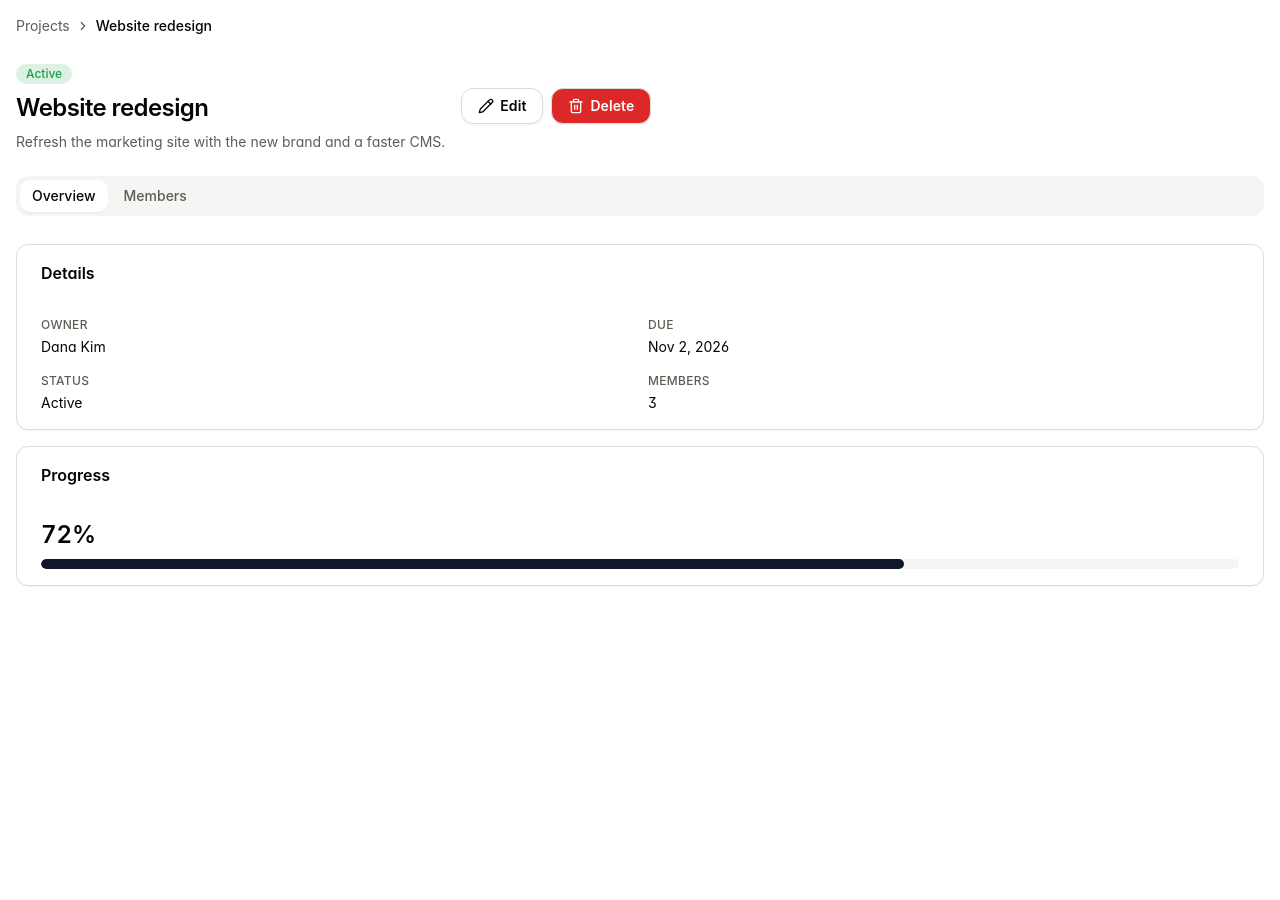
Test case: detail-page › asks before deleting; cancel keeps, confirm deletes
What coordinates should you click on to do the following:
click the button "Delete"
I would click on:
 (601, 106)
Its box is [551, 88, 651, 124].
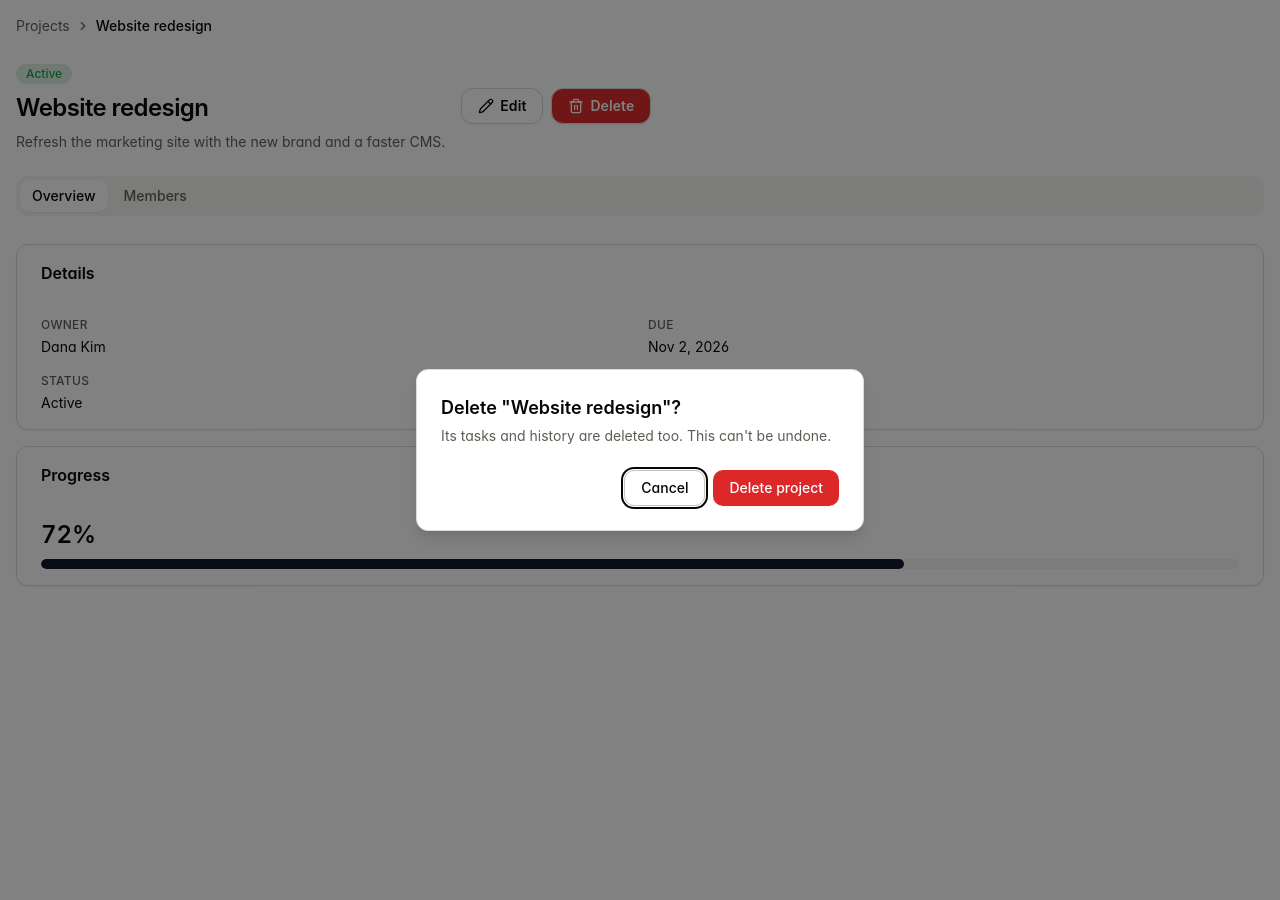
Check: the dialog shows "Delete \"Website redesign\"?", box [441, 397, 681, 418]
What coordinates should you click on to do the following:
click the button "Cancel"
I would click on:
 (665, 488)
Its box is [624, 470, 706, 506].
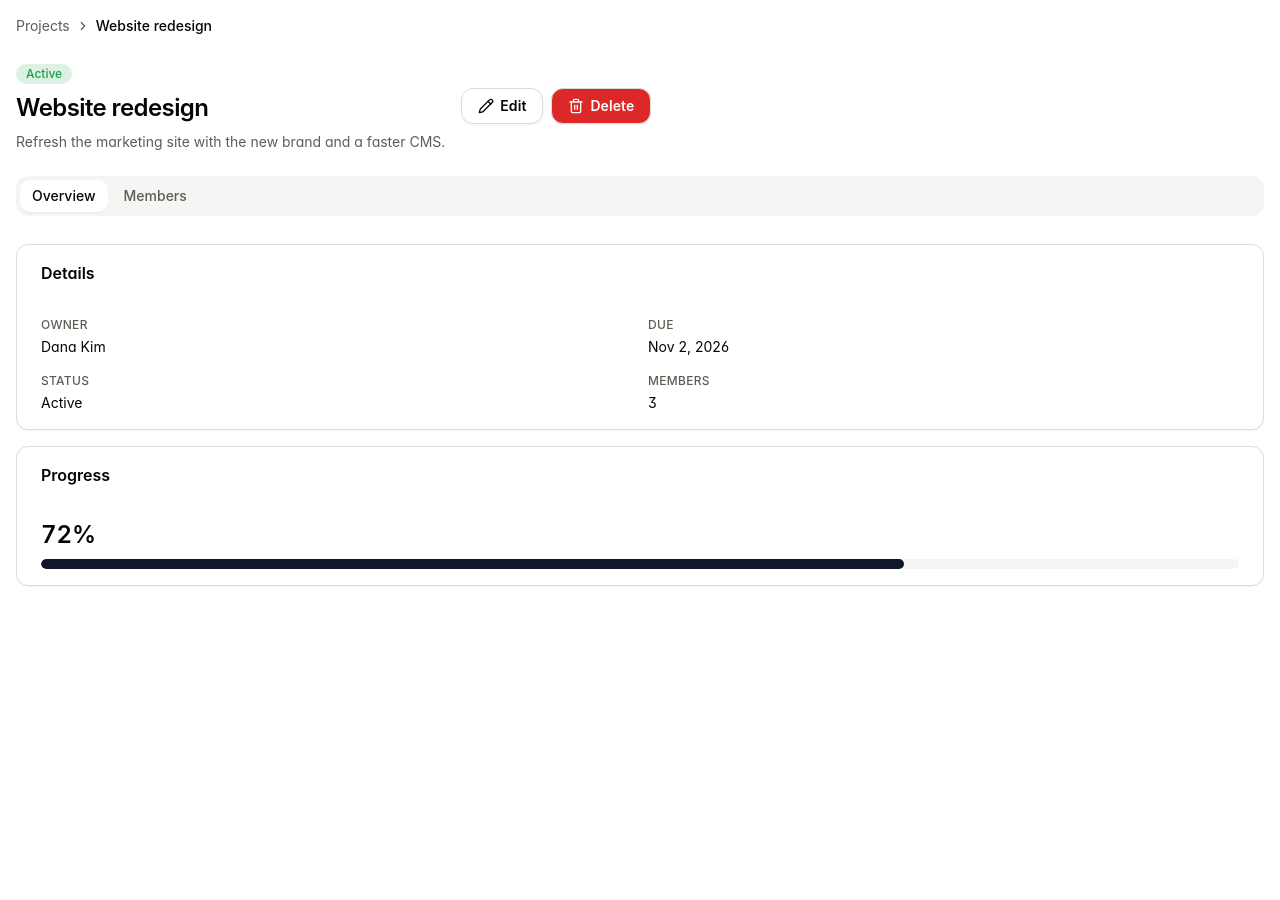
Check: the dialog is gone
What coordinates should you click on to do the following:
click the button "Delete"
I would click on:
 (601, 106)
Its box is [551, 88, 651, 124].
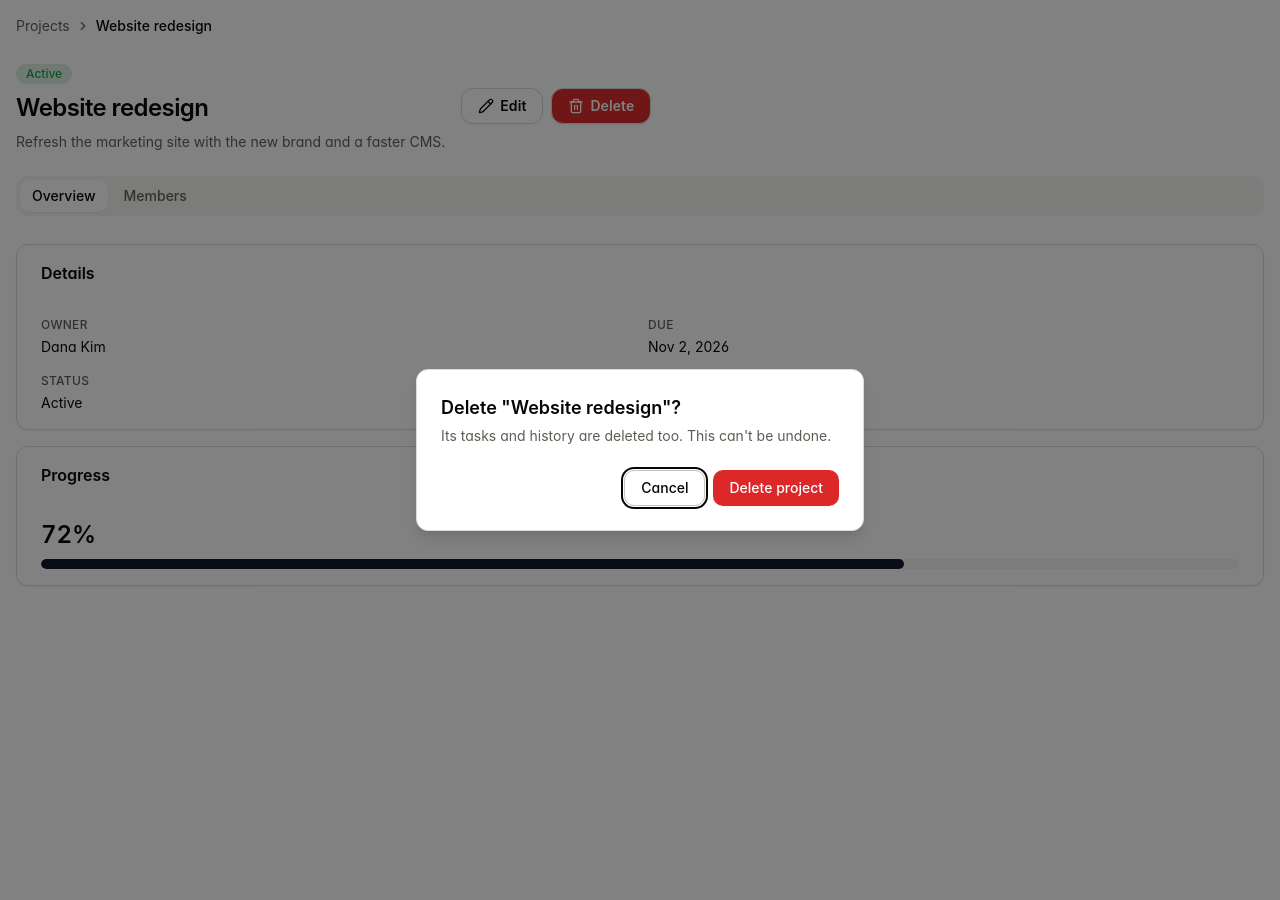
What coordinates should you click on to do the following:
click the button "Delete project"
I would click on:
 (776, 488)
Its box is [714, 470, 839, 506].
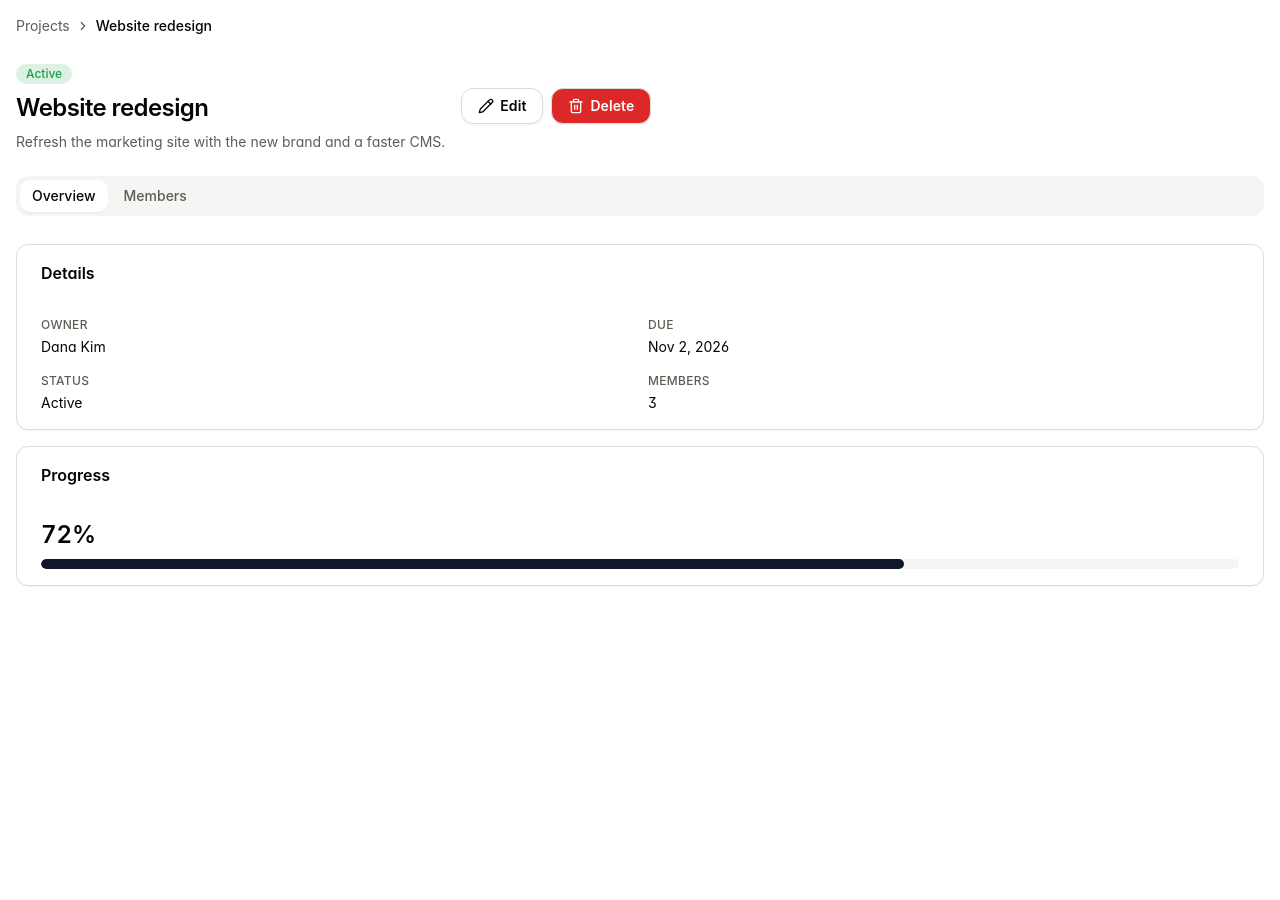
Check: the dialog is gone
